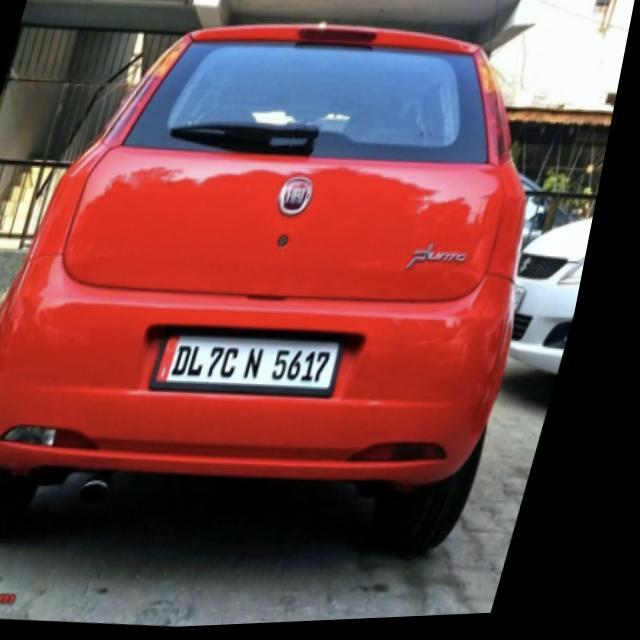license_plate: (167, 332, 360, 405)
